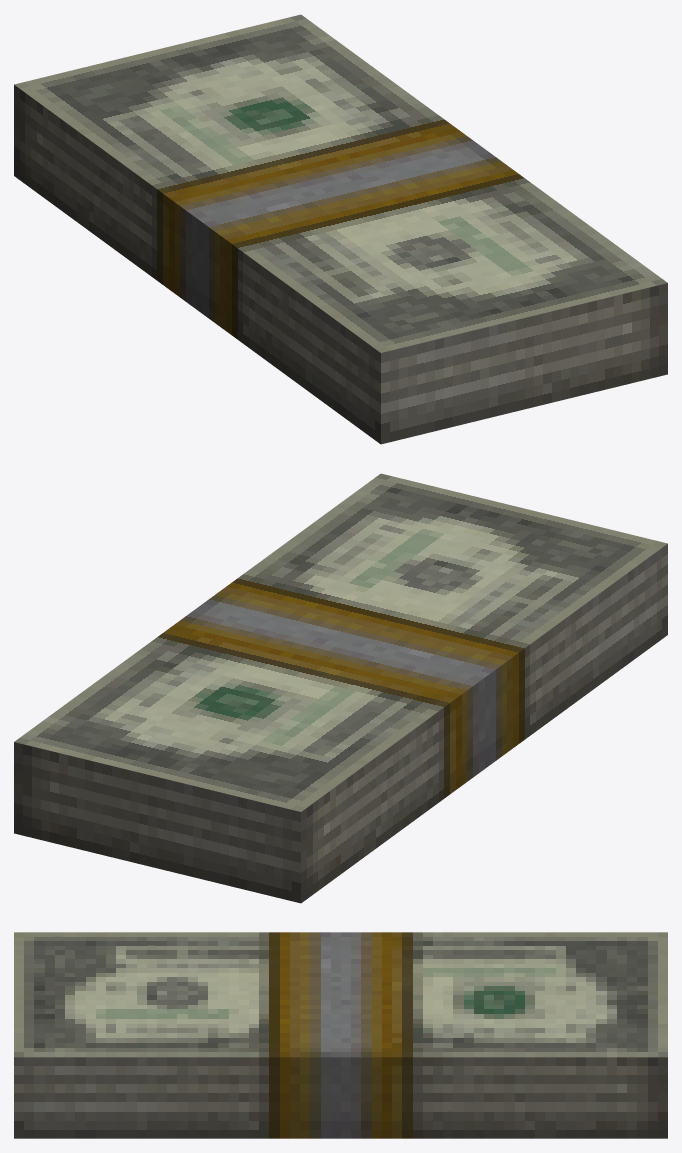
The model's file is cash_1.obj.
3 views of the same model, one above another, from view 1: azimuth 30°, elevation 25°; view 2: azimuth 150°, elevation 25°; view 3: azimuth 270°, elevation 25° (orthographic). The views are drawn at different scales.
Visible parts, largest first — view 1: cash_1; view 2: cash_1; view 3: cash_1.
Boxes of the visible parts, x1=… form: cash_1: x1=14, y1=14, x2=667, y2=444; cash_1: x1=14, y1=473, x2=667, y2=903; cash_1: x1=14, y1=932, x2=667, y2=1138.
Size of the model in its own units: 0.1288 by 0.0392 by 0.2851.
